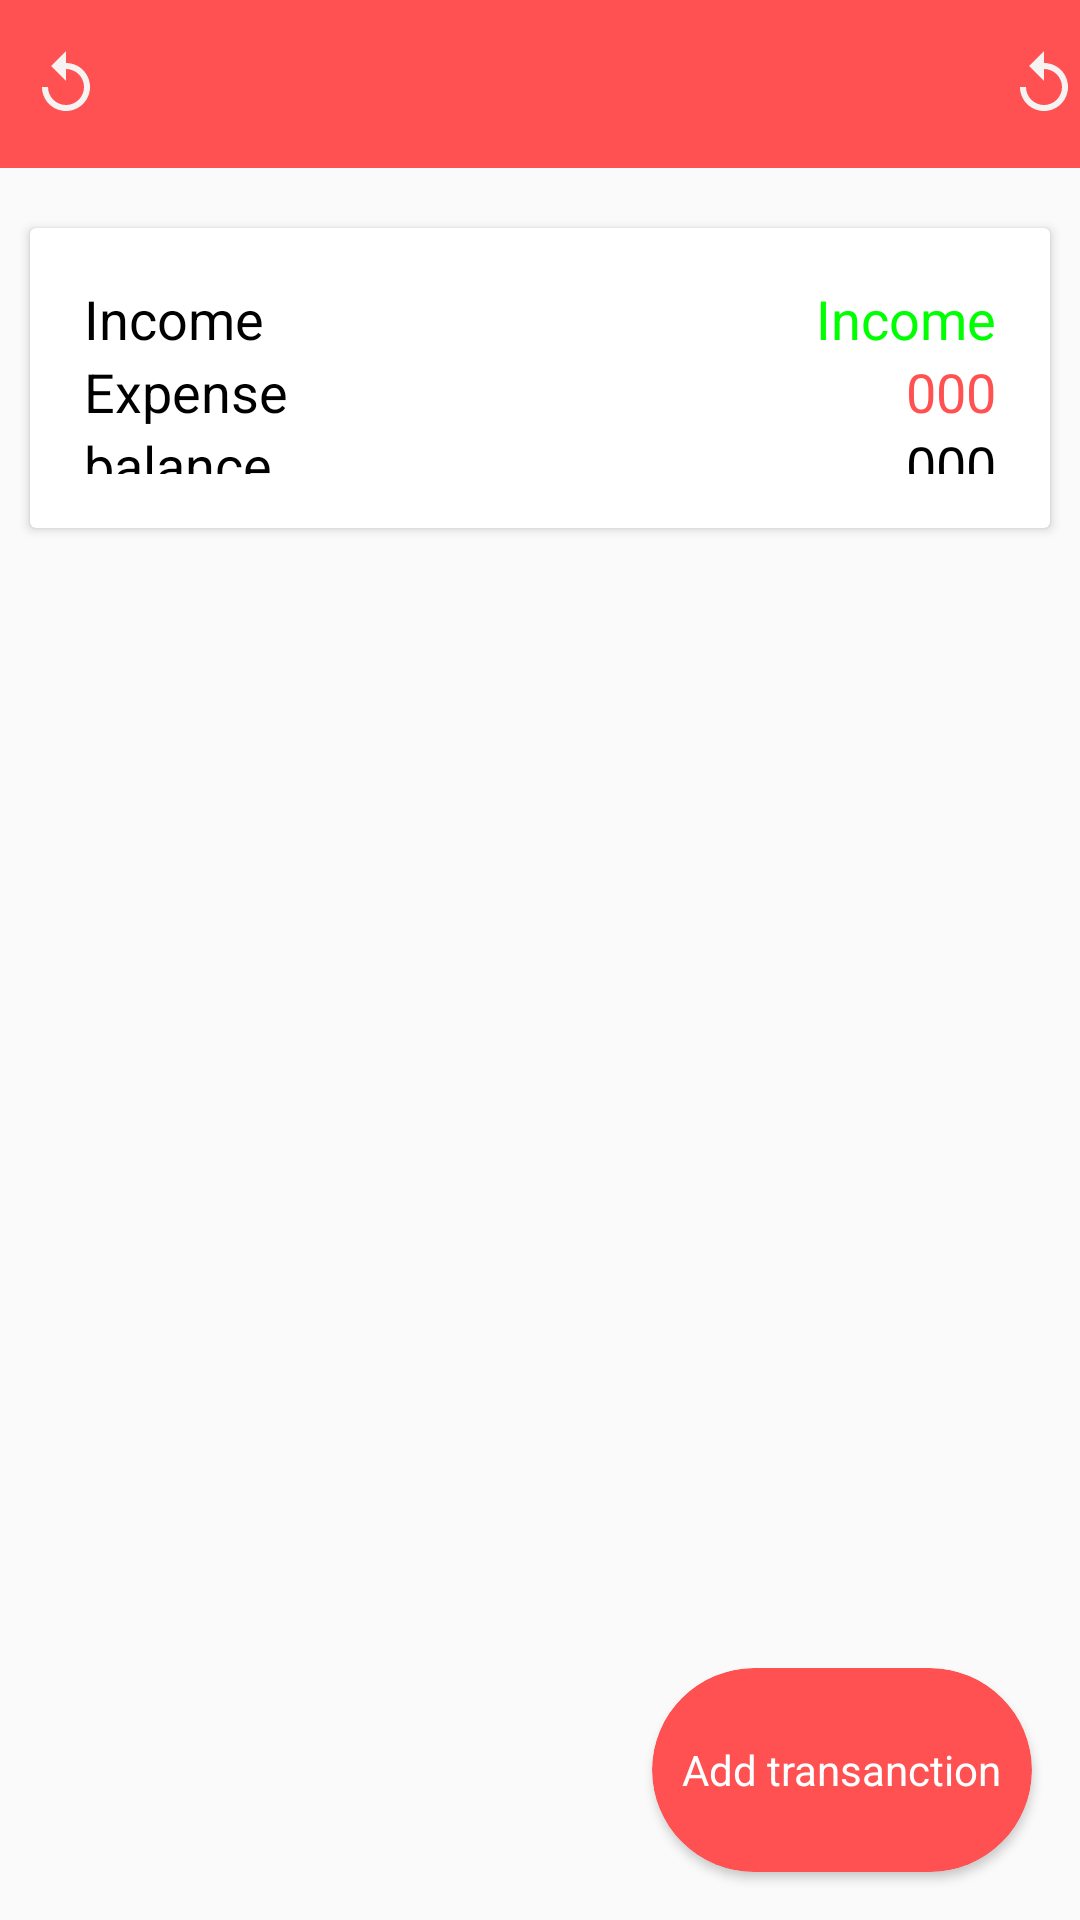

Screen size 1080×1920. Icon name, then its center in pixels as (x,y):
replay: (66,81), (1044,81)
